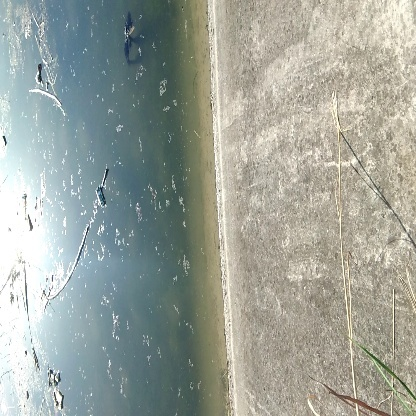branch: (44, 223, 100, 301), (27, 85, 75, 117)
